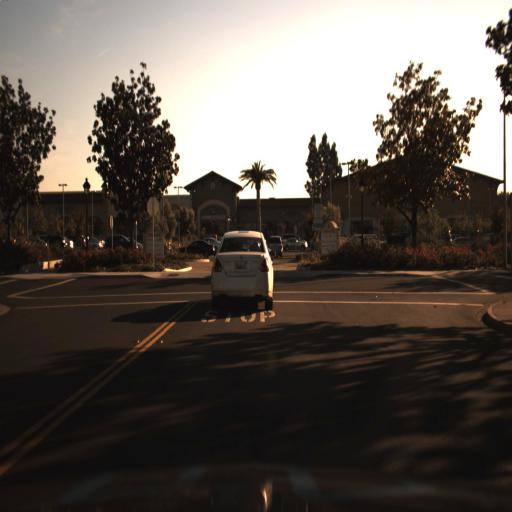car: (208, 229, 278, 313), (102, 234, 143, 251), (180, 235, 210, 257), (281, 232, 309, 253), (280, 232, 307, 250), (268, 236, 287, 261)
